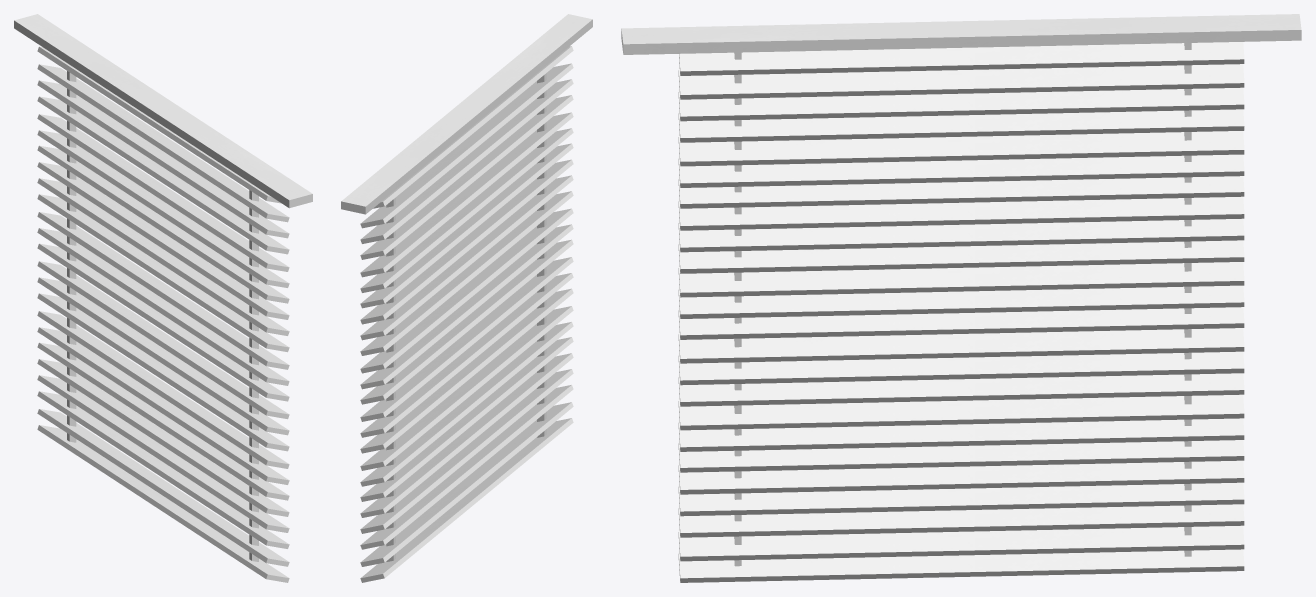
Rendered from blinds_lo.fbx.
3 views of the same model, side by side, from view 1: azimuth 30°, elevation 25°; view 2: azimuth 150°, elevation 25°; view 3: azimuth 270°, elevation 25° (orthographic). The views are drawn at different scales.
Parts seen in each view (by area): view 1: blind_top, blind_11, blind_20, blind_16, blind_13, blind_8, blind_2, blind_22, blind_5, blind_19, blind_10, blind_14 (+15 smaller); view 2: blind_top, blind_20, blind_11, blind_13, blind_22, blind_5, blind_2, blind_8, blind_16, blind_10, blind_14, blind_19 (+15 smaller); view 3: blind_top, blind_2, blind_13, blind_11, blind_5, blind_22, blind_20, blind_3, blind_8, blind_16, blind_19, blind_14 (+15 smaller).
Boxes of the visible parts, x1,y1,x2,y2 form: blind_top: (14, 14, 312, 208); blind_11: (37, 212, 289, 369); blind_20: (37, 409, 289, 566); blind_16: (37, 359, 289, 516); blind_13: (37, 261, 289, 419); blind_8: (37, 162, 289, 319); blind_2: (37, 64, 289, 222); blind_22: (37, 311, 289, 468); blind_5: (37, 114, 289, 271); blind_19: (37, 425, 289, 582); blind_10: (37, 228, 289, 385); blind_14: (37, 277, 289, 435); blind_top: (341, 14, 592, 214); blind_20: (360, 402, 573, 566); blind_11: (360, 208, 573, 373); blind_13: (360, 257, 573, 421); blind_22: (360, 306, 573, 470); blind_5: (360, 112, 573, 277); blind_2: (360, 63, 573, 228); blind_8: (360, 159, 573, 324); blind_16: (360, 353, 573, 517); blind_10: (360, 224, 573, 389); blind_14: (360, 273, 573, 437); blind_19: (360, 418, 573, 582); blind_top: (621, 14, 1301, 54); blind_2: (678, 64, 1244, 99); blind_13: (678, 328, 1244, 363); blind_11: (678, 262, 1244, 297); blind_5: (678, 131, 1244, 166); blind_22: (678, 394, 1244, 430); blind_20: (678, 525, 1244, 561); blind_3: (679, 42, 1244, 75); blind_8: (678, 196, 1244, 230); blind_16: (678, 460, 1244, 494); blind_19: (678, 549, 1244, 582); blind_14: (678, 351, 1244, 385).
Bounding box in the file's own units: 11.82 × 98.4 × 112.
Materials: 1 (1 with a texture image).
